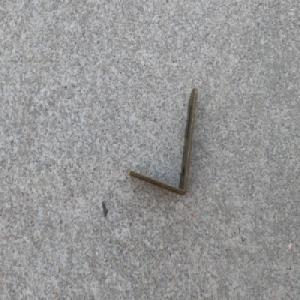MetalPart: (127, 85, 198, 196)
